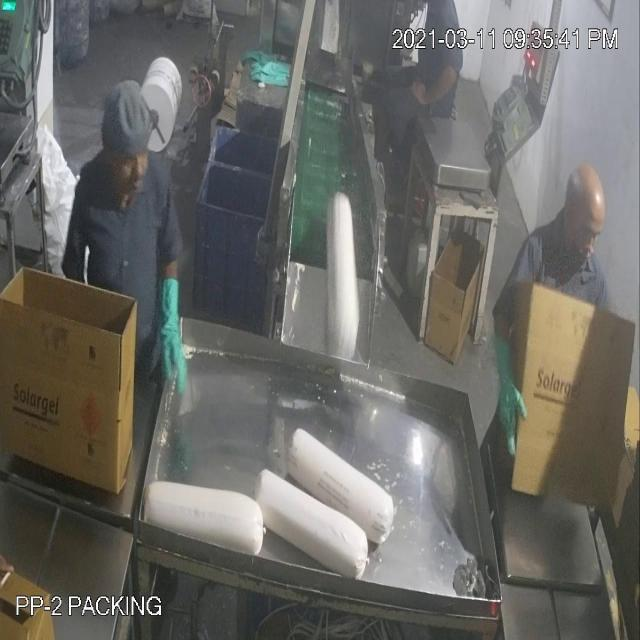No_Gloves: (42, 70, 511, 393)
